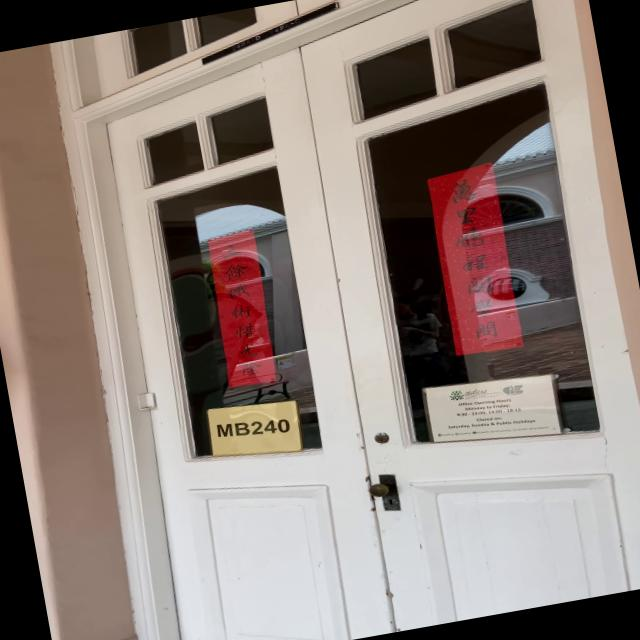room240: (208, 394, 299, 456)
